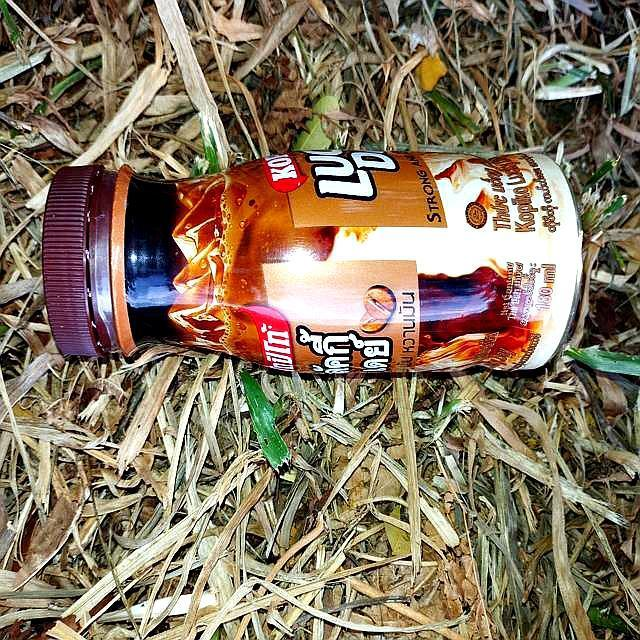Non-biodegradable: (41, 146, 586, 381)
